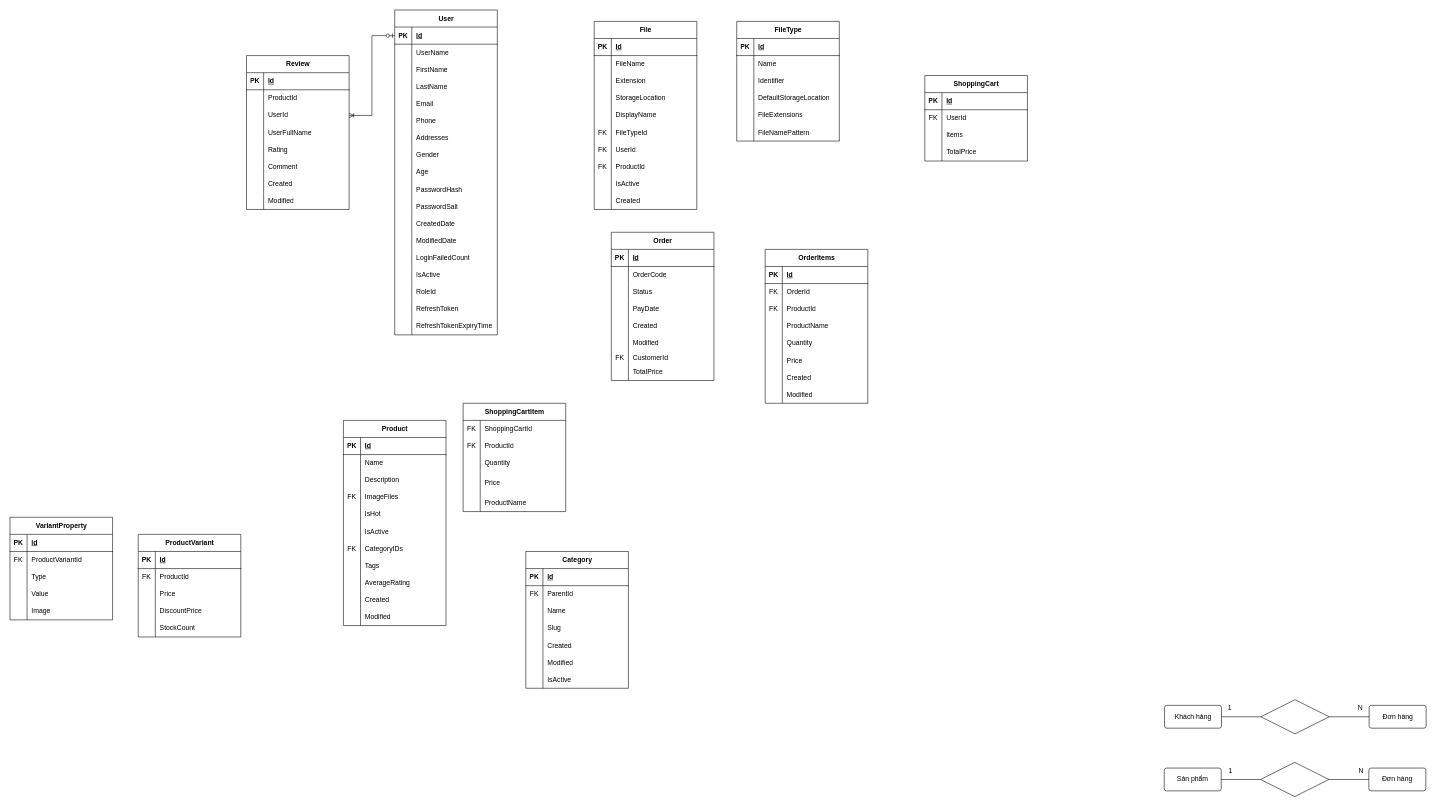
Some shapes in this 1436 by 807 pixel diagram are drawn without their labels. Each missing label, with the centre of its shape:
Mua hàng: the point at 1294,716
Nằm trong: the point at 1294,779
